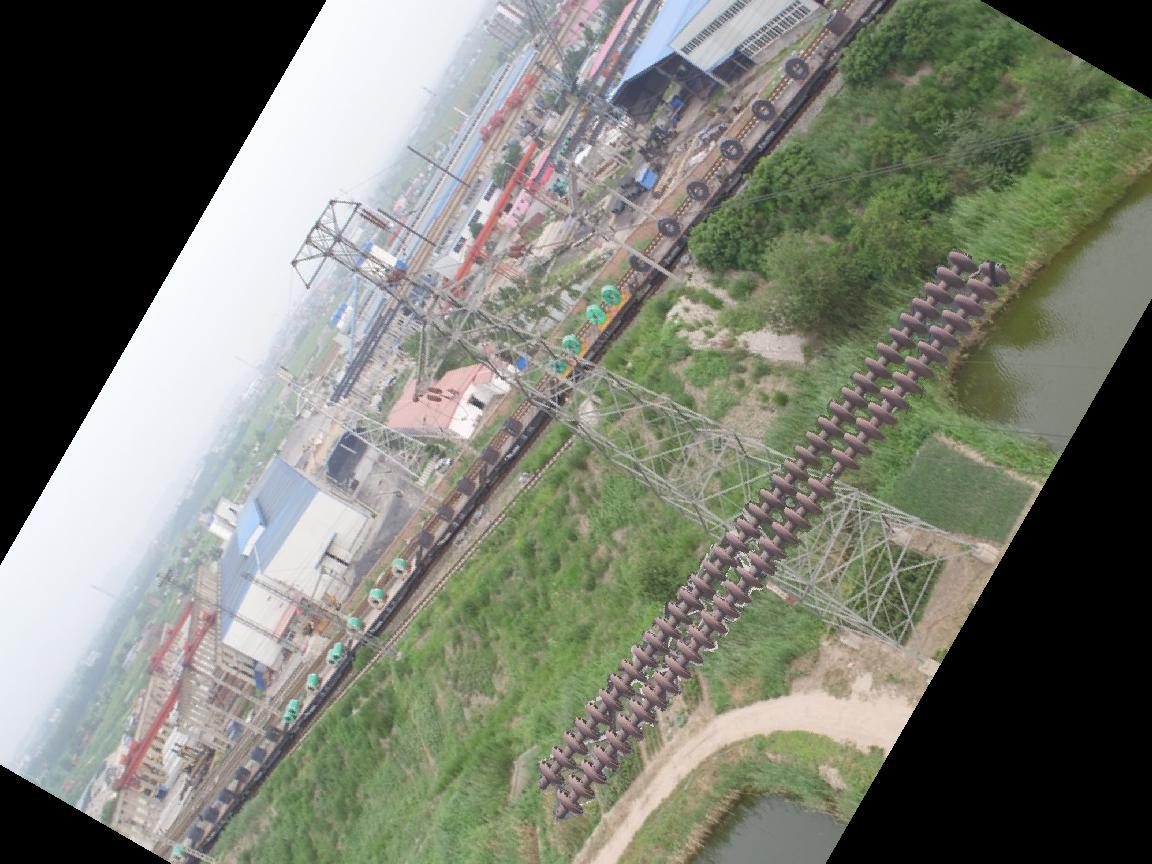insulator: (531, 244, 1011, 823)
insulator_stringdrop: (807, 446, 863, 502)
